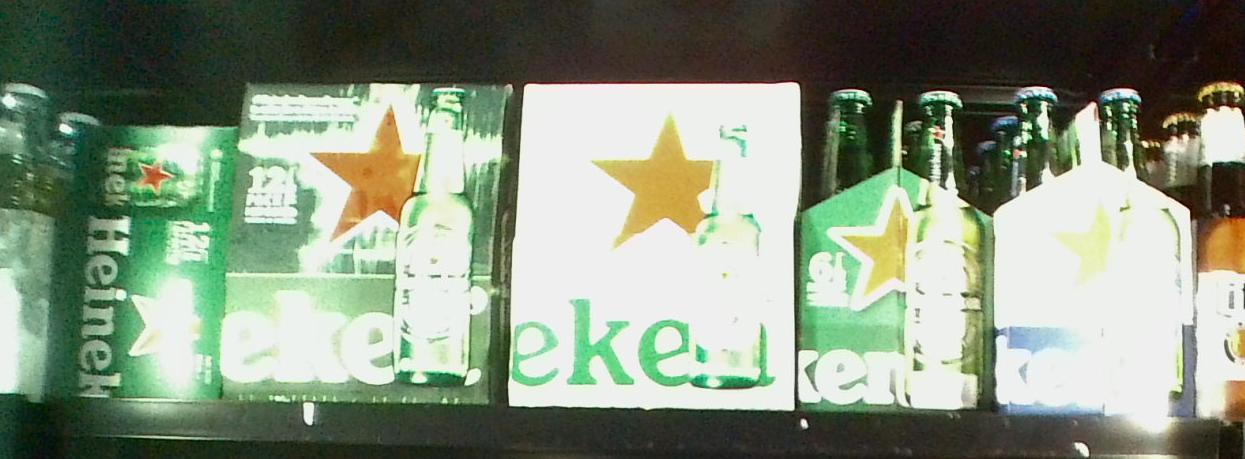bottle: (515, 80, 799, 410), (235, 80, 498, 405), (990, 83, 1187, 416), (800, 85, 987, 411), (56, 126, 221, 398)
